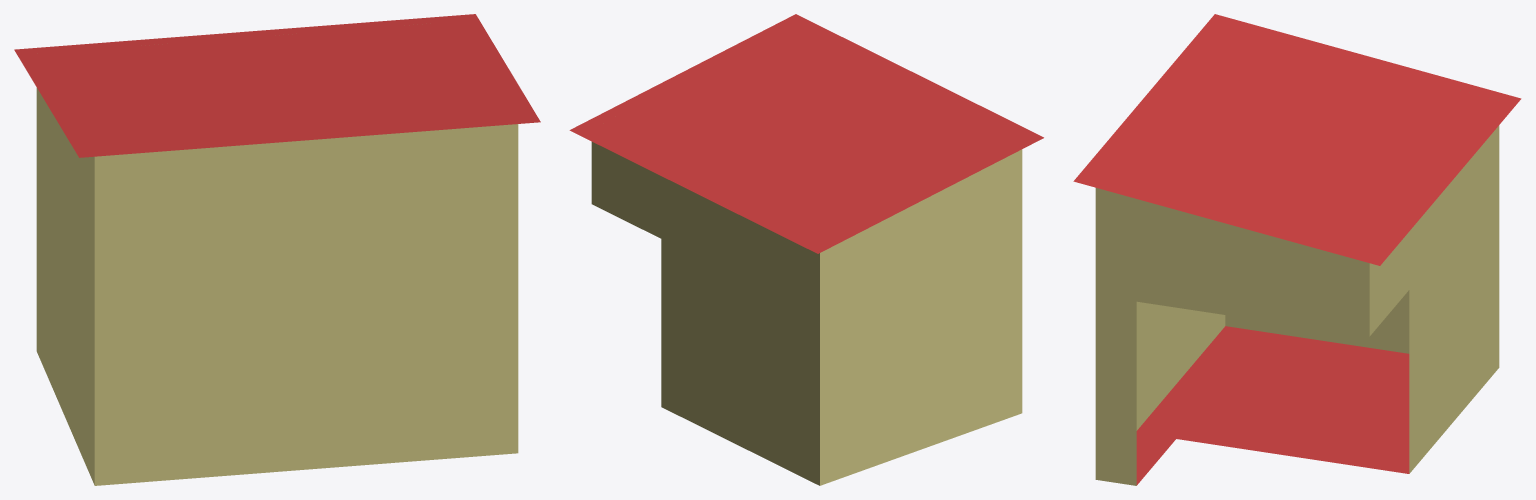
The picture shows the model from 3 angles, left to right: view 1: azimuth 30°, elevation 25°; view 2: azimuth 150°, elevation 25°; view 3: azimuth 270°, elevation 25°; orthographic projection. The views are drawn at different scales.
Size of the model in its own units: 14.56 by 12.91 by 9.62.
